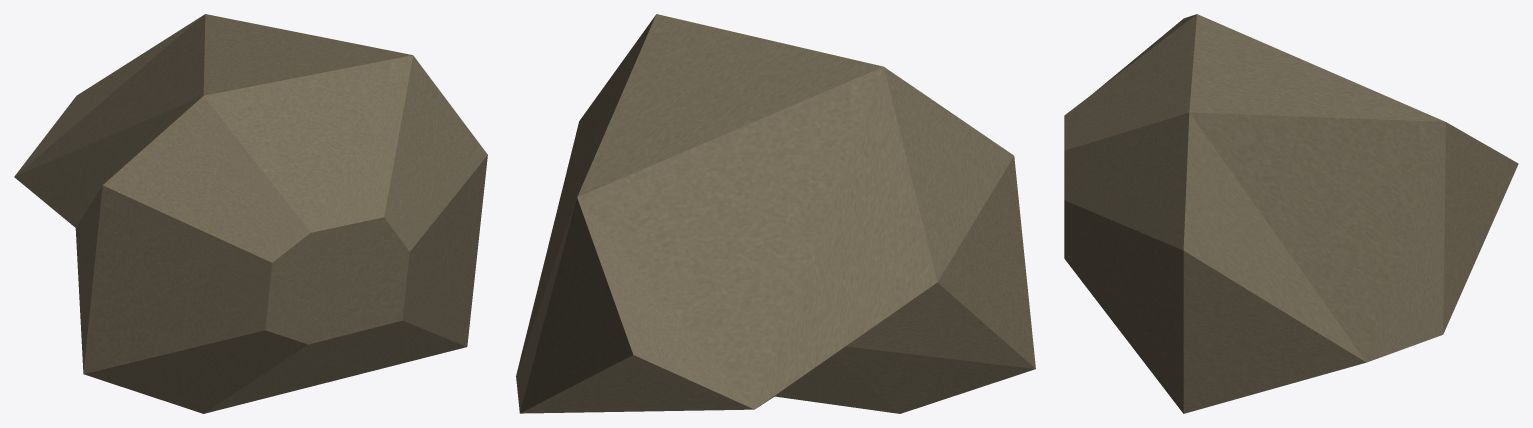
The model's file is all_share_rock_7.FBX.
3 renders of one model, left to right at view 1: azimuth 30°, elevation 25°; view 2: azimuth 150°, elevation 25°; view 3: azimuth 270°, elevation 25°, orthographic. The views are drawn at different scales.
Parts seen in each view (by area): view 1: rock_2.001; view 2: rock_2.001; view 3: rock_2.001.
Part boxes in pixels (left/top/right/bottom): rock_2.001: left=14, top=14, right=487, bottom=413; rock_2.001: left=516, top=14, right=1035, bottom=413; rock_2.001: left=1064, top=14, right=1518, bottom=413.
Size of the model in its own units: 274 by 202 by 289.
